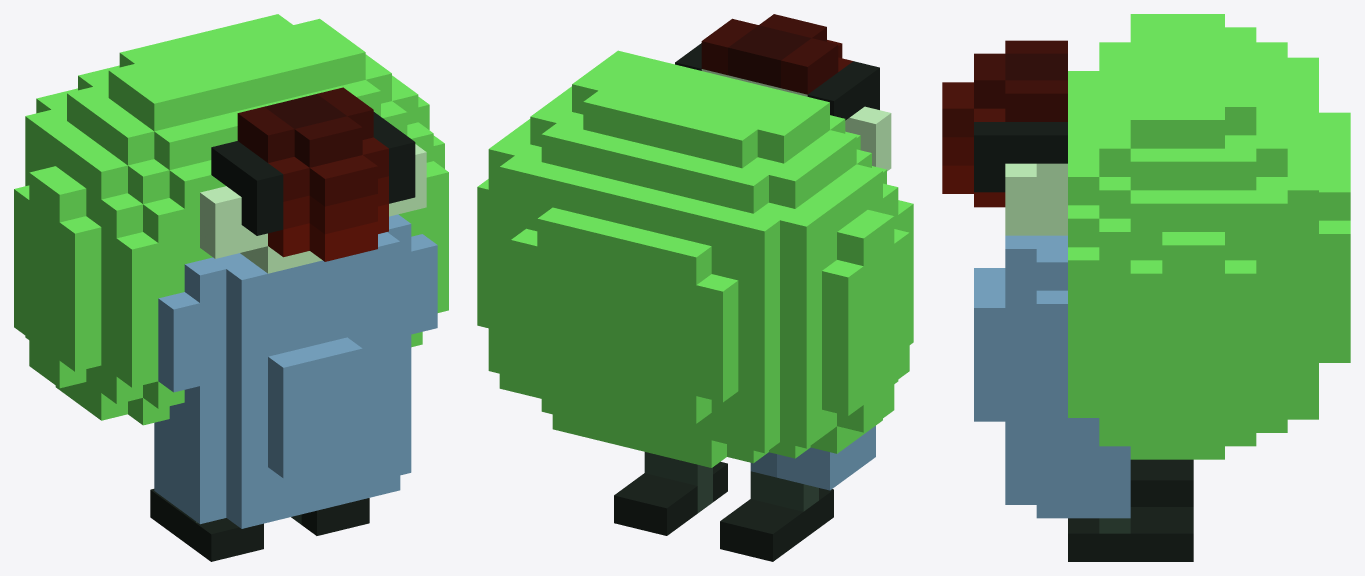
Rendered from scientist01_attack-07.obj.
3 views of the same model, side by side, from view 1: azimuth 30°, elevation 25°; view 2: azimuth 150°, elevation 25°; view 3: azimuth 270°, elevation 25° (orthographic). The views are drawn at different scales.
Bounding box in the file's own units: 14 × 16 × 13.
1 material, 1 textured.
